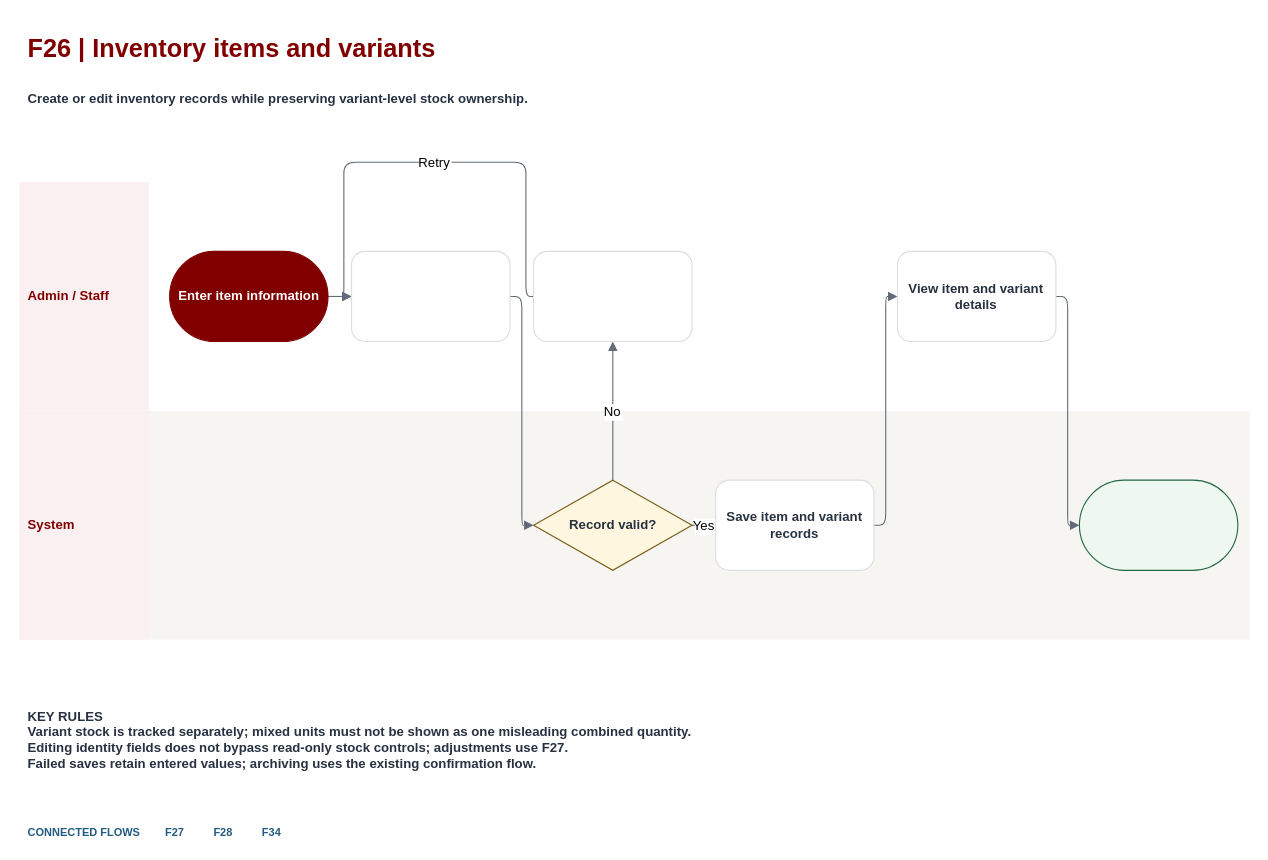
Image size: 1268x860. Some labels were removed from this diagram. The centre of each missing label's shape, as x and y in pixels:
"Add units and optional variants" goes at (x=430, y=296).
"Correct values; keep draft" goes at (x=612, y=296).
"Refresh shared inventory" goes at (x=1158, y=524).
